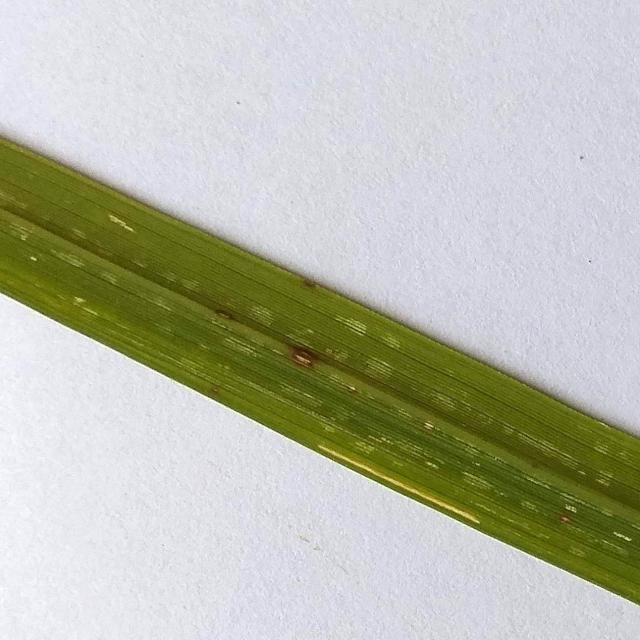Blast: (286, 344, 322, 370), (214, 306, 240, 324)
